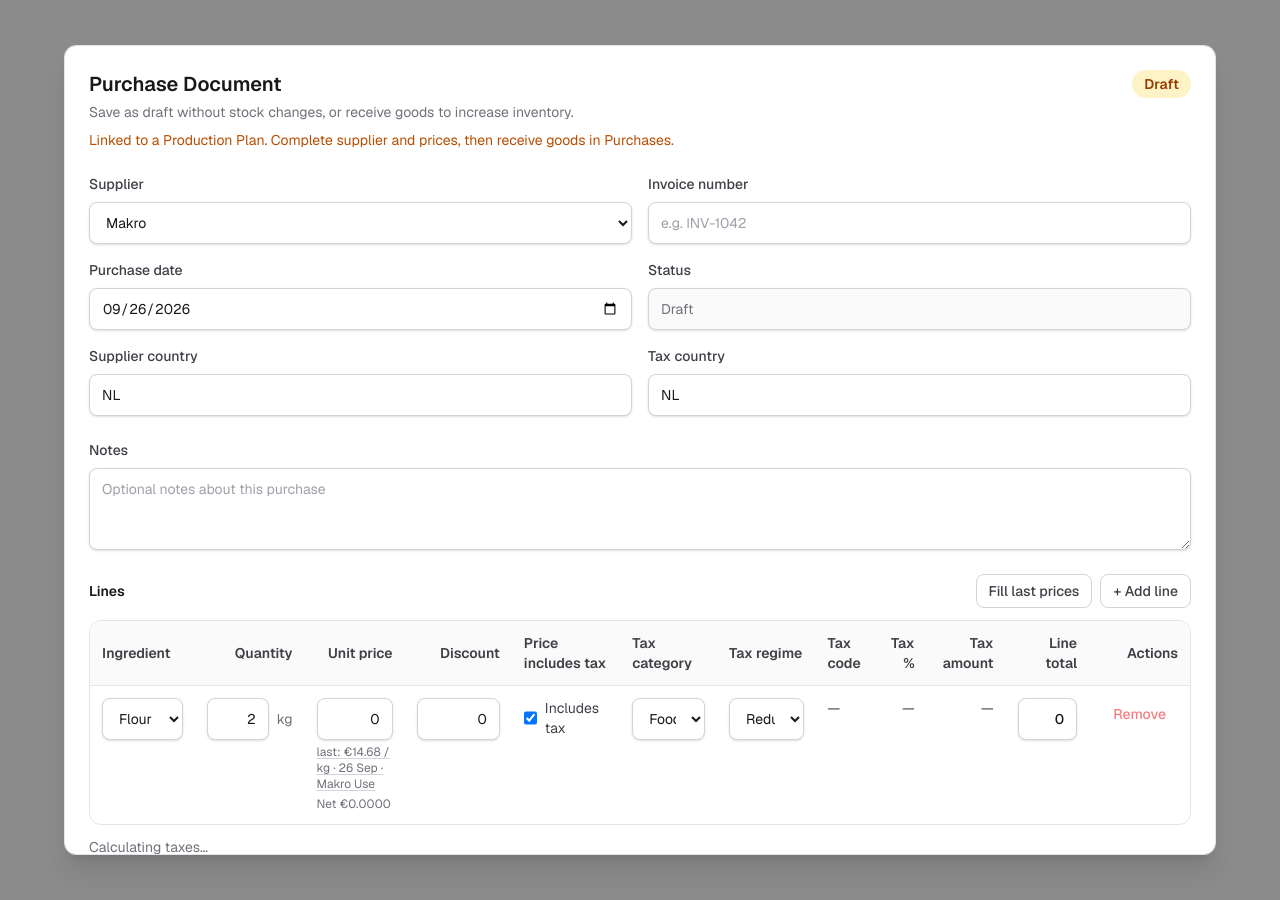
Test: PurchaseDocumentModal last price › keeps a line total edited after Fill last prices
Click the button "Fill last prices" at [1034, 591], box [976,574,1092,608]
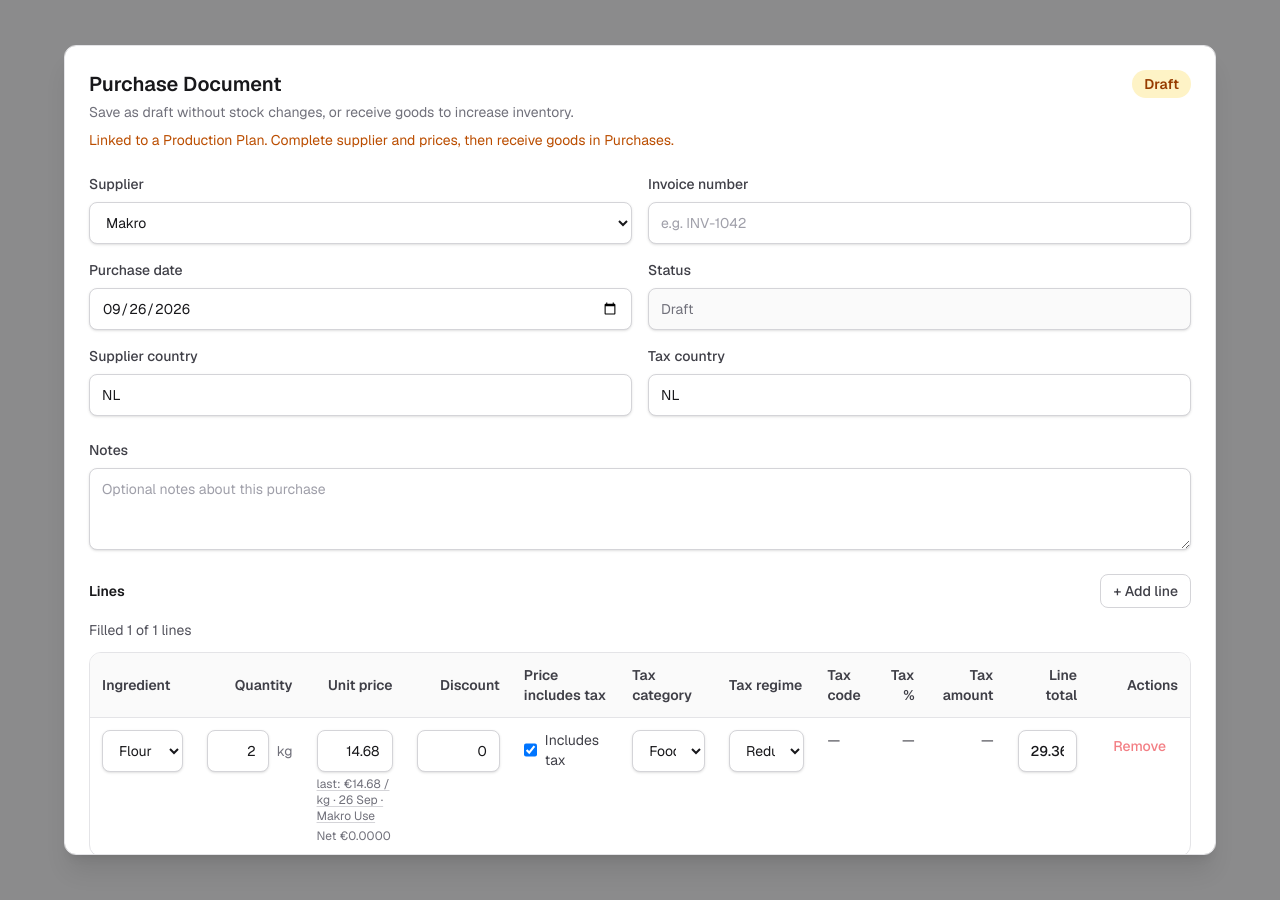
Expected: the field named "Unit price" holds "14.68", [317,730,393,772]
Replace the text in the field named "Line total" with "10" at [1047, 751], box [1018,730,1077,772]
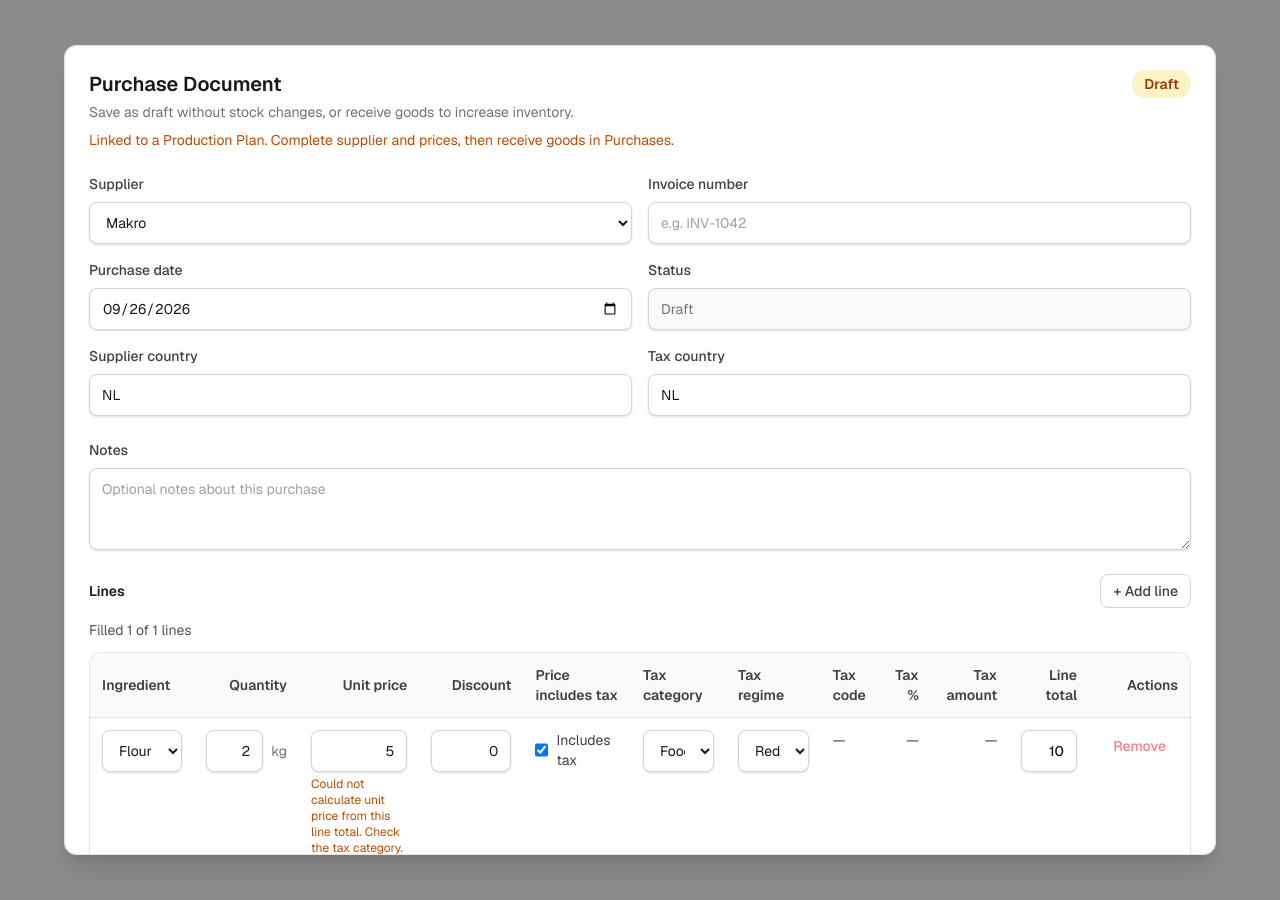
Expected: the field named "Unit price" holds "5", [311,730,407,772]
